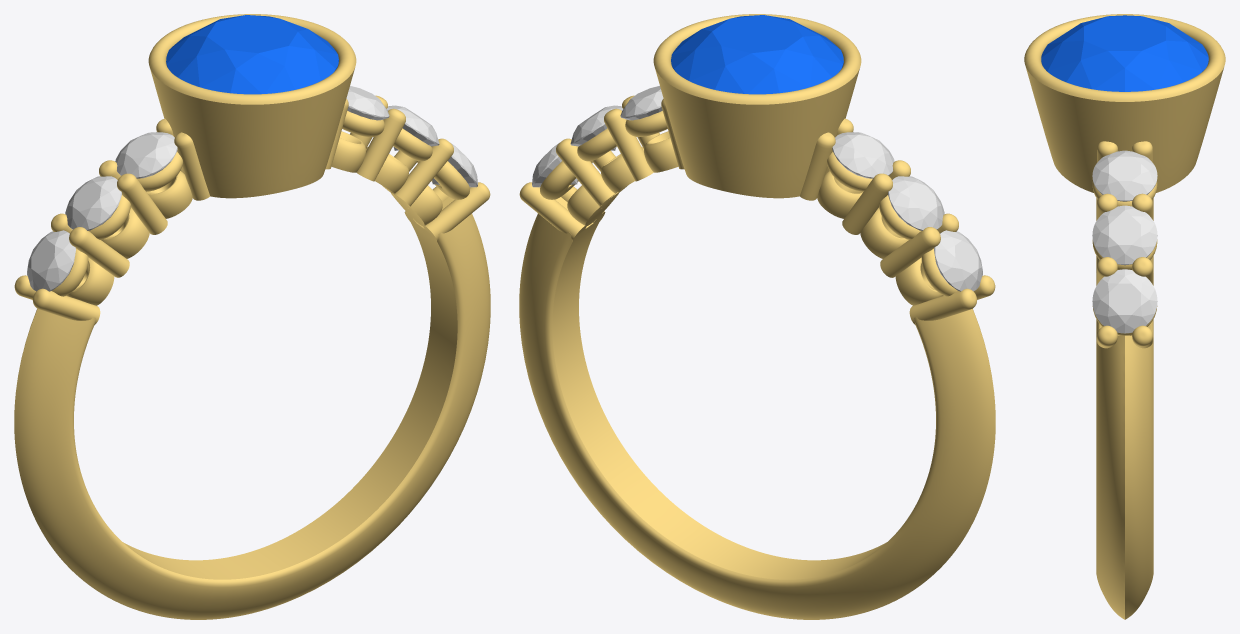
File: bluesapphire-round-yellowgold-bezelset-knifeedge-3stone.glb
The picture shows the model from 3 angles, left to right: view 1: azimuth 30°, elevation 25°; view 2: azimuth 150°, elevation 25°; view 3: azimuth 270°, elevation 25°; orthographic projection. The views are drawn at different scales.
Parts seen in each view (by area): view 1: metal, stone, side.001, side.002, side, side.003, side.004, side.005; view 2: metal, stone, side.001, side.002, side, side.003, side.004, side.005; view 3: metal, stone, side.005, side.004, side.003.
Part boxes in pixels (left/top/right/bottom): metal: left=14, top=14, right=490, bottom=619; stone: left=166, top=15, right=338, bottom=94; side.001: left=65, top=176, right=121, bottom=230; side.002: left=27, top=230, right=75, bottom=291; side: left=115, top=132, right=177, bottom=178; side.003: left=346, top=86, right=389, bottom=120; side.004: left=386, top=105, right=439, bottom=150; side.005: left=432, top=143, right=477, bottom=187; metal: left=519, top=14, right=995, bottom=619; stone: left=671, top=15, right=843, bottom=94; side.001: left=888, top=176, right=944, bottom=230; side.002: left=934, top=230, right=982, bottom=291; side: left=832, top=132, right=894, bottom=178; side.003: left=620, top=86, right=663, bottom=120; side.004: left=570, top=105, right=623, bottom=150; side.005: left=532, top=143, right=577, bottom=187; metal: left=1024, top=14, right=1225, bottom=619; stone: left=1041, top=15, right=1208, bottom=91; side.005: left=1092, top=269, right=1157, bottom=333; side.004: left=1092, top=205, right=1157, bottom=265; side.003: left=1092, top=150, right=1157, bottom=201.
Size of the model in its own units: 20.51 by 23.81 by 7.74.
